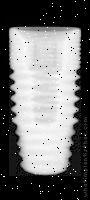NucleOSS: (4, 27, 81, 177)
